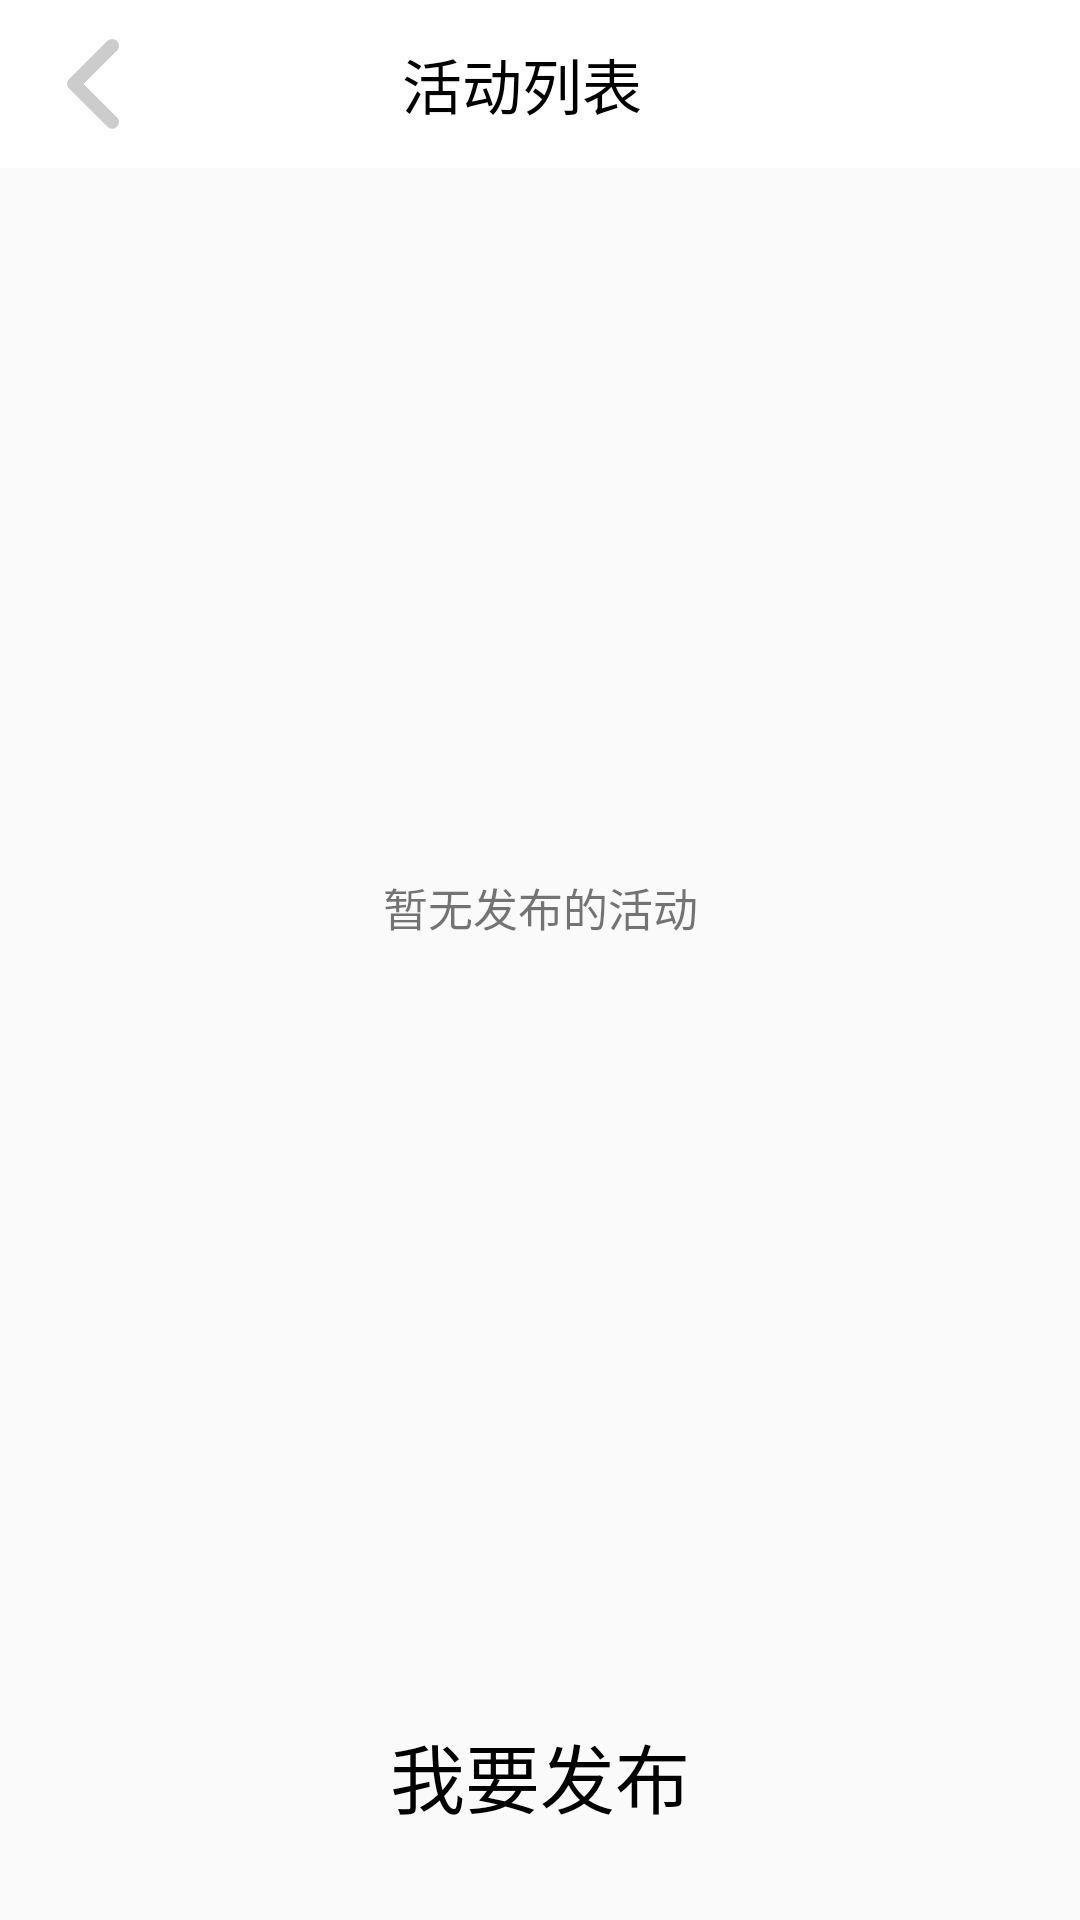

Named icons in this screenshot (1080 x 1920) and their bounding boxes, region(x1, y1, x2, y2):
arrow left: region(67, 39, 119, 129)
